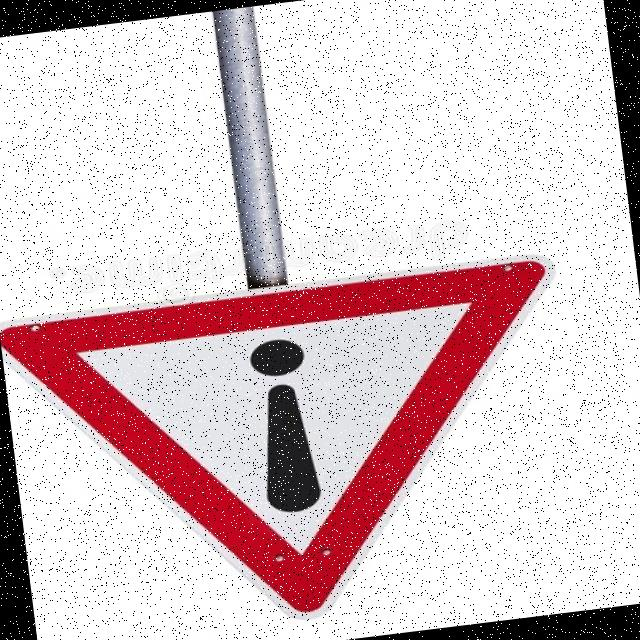warning: (0, 239, 603, 640)
